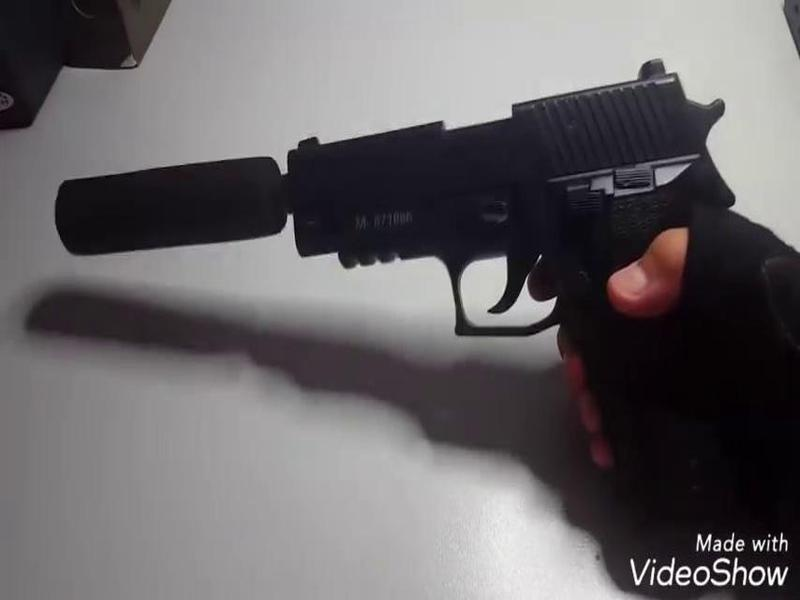Pistola: (284, 66, 762, 498)
